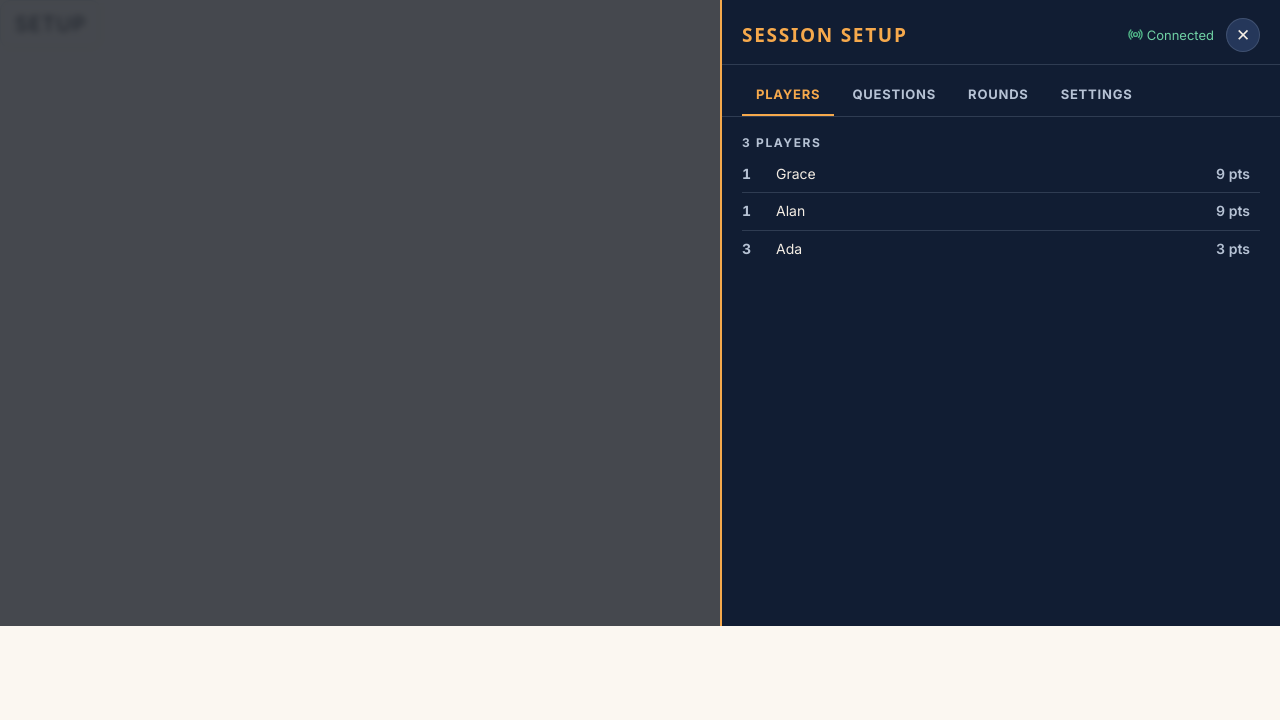
it: the Questions tab — categories › each category shows its live remaining count
What coordinates should you click on to do the following:
click the tab "Questions"
I would click on:
 (894, 95)
Its box is [838,75,950,116].
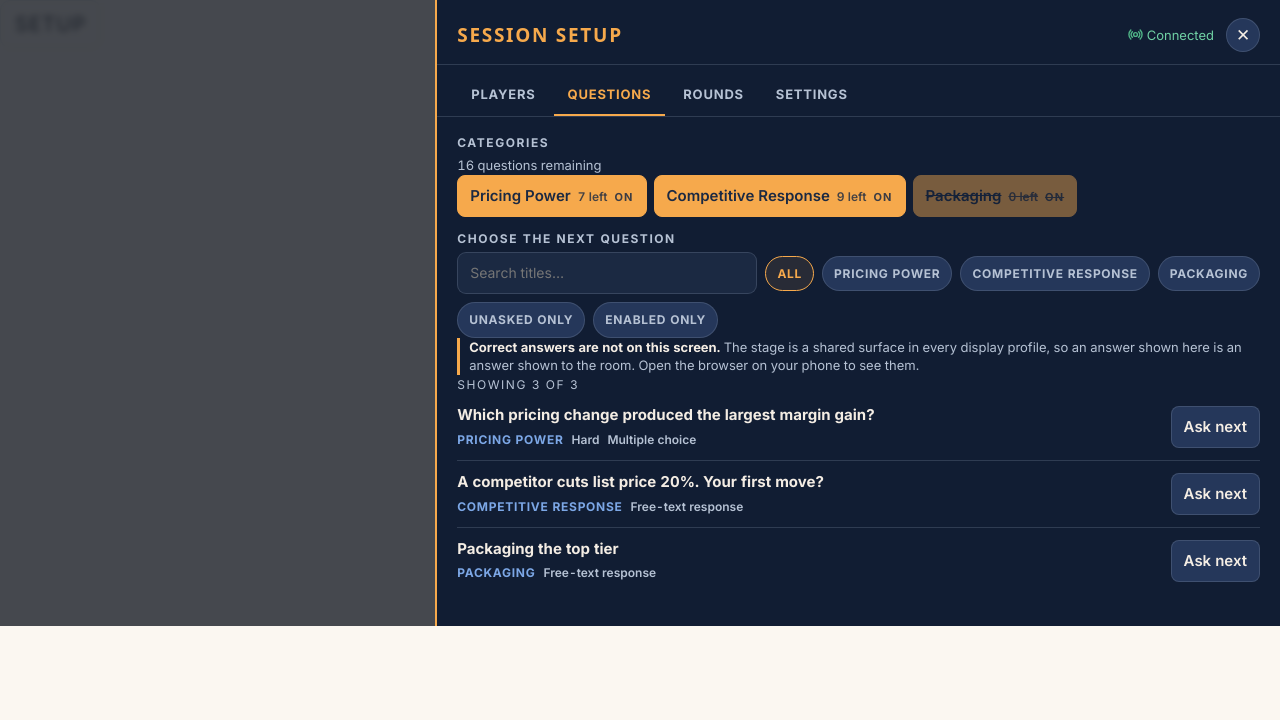
Check: the button with test id "category-toggle" shows "Pricing Power", box [457,175,646,217]
Check: the button with test id "category-toggle" shows "7", box [457,175,646,217]
Check: the button with test id "category-toggle" shows "9", box [654,175,906,217]
